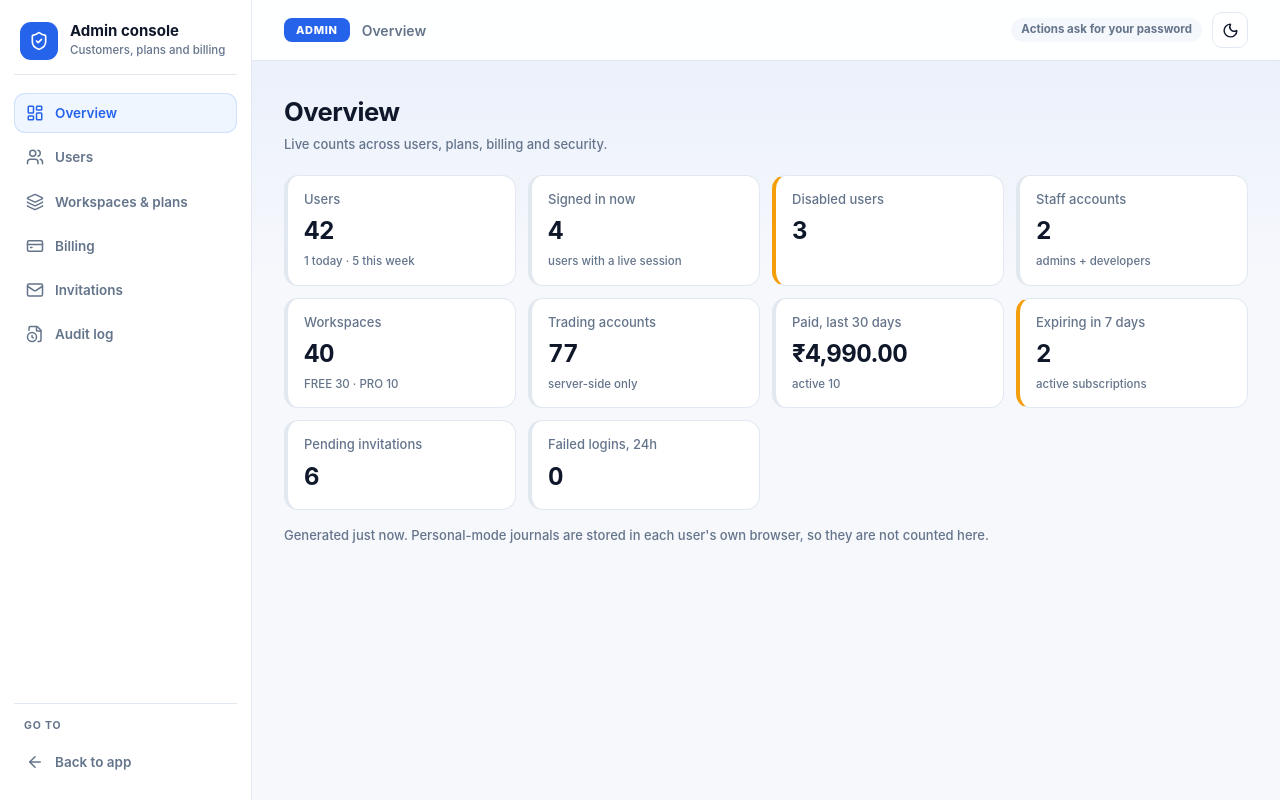
Test: Users › opens a user and shows workspaces, accounts, payments and activity — and flags repeated failed logins
What coordinates should you click on to do the following:
click the tab "Users"
I would click on:
 (126, 157)
Its box is [14,137,237,178].
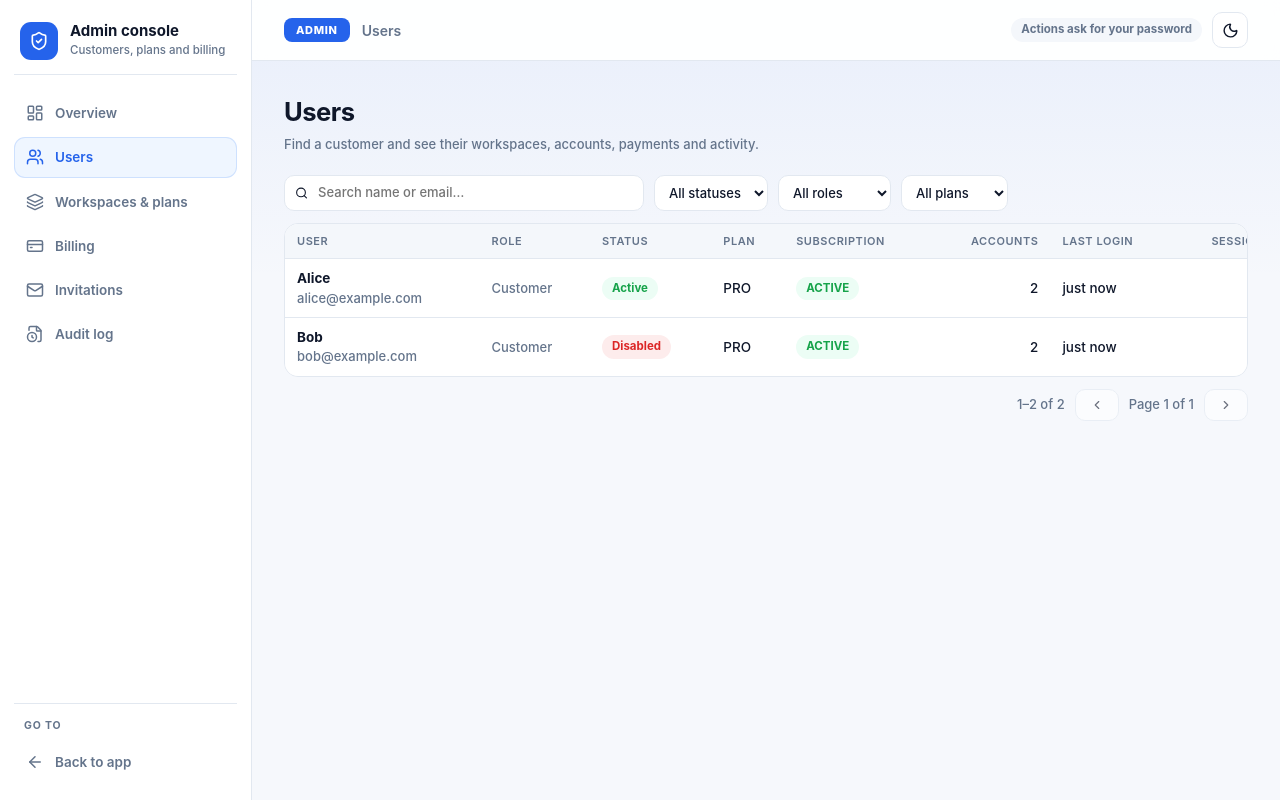
What coordinates should you click on to do the following:
click the row with class "adm-clickable" that starts with "Alice"
I would click on:
 (782, 288)
Its box is [285,259,1279,318].
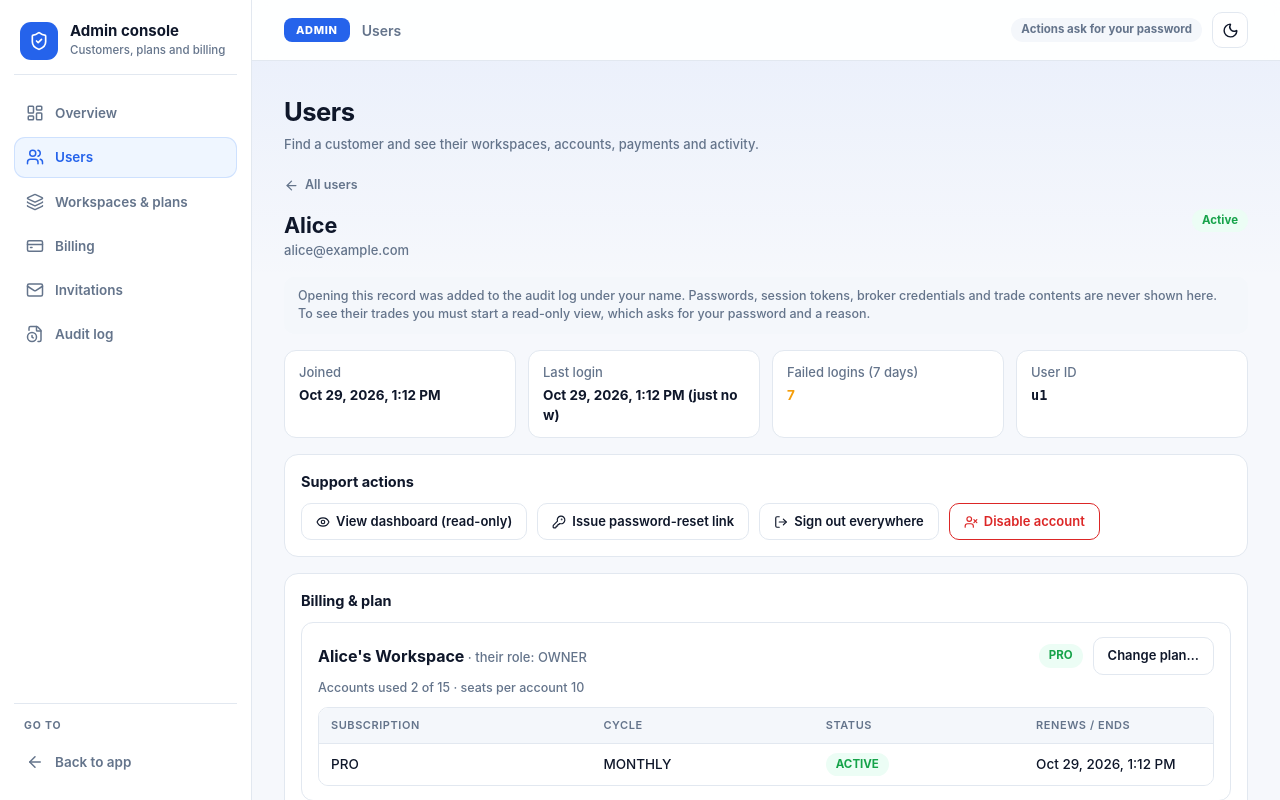
Expected: the text "Alice's Workspace" is shown, [318,646,464,666]
Expected: the text "2 of 15" is shown, [318,680,584,695]
Expected: the text "never shown here" is shown, [298,288,1217,322]
